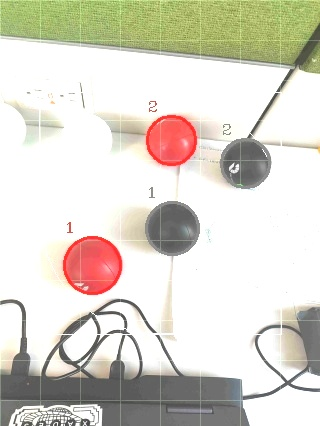Pelota blanca: (47, 297, 145, 381), (252, 323, 307, 387), (241, 385, 320, 425), (58, 113, 113, 166), (0, 297, 28, 376), (0, 100, 28, 152)
Pelota negra: (143, 198, 201, 256), (217, 137, 273, 190)
Pelota roja: (60, 233, 123, 296), (143, 113, 198, 168)
